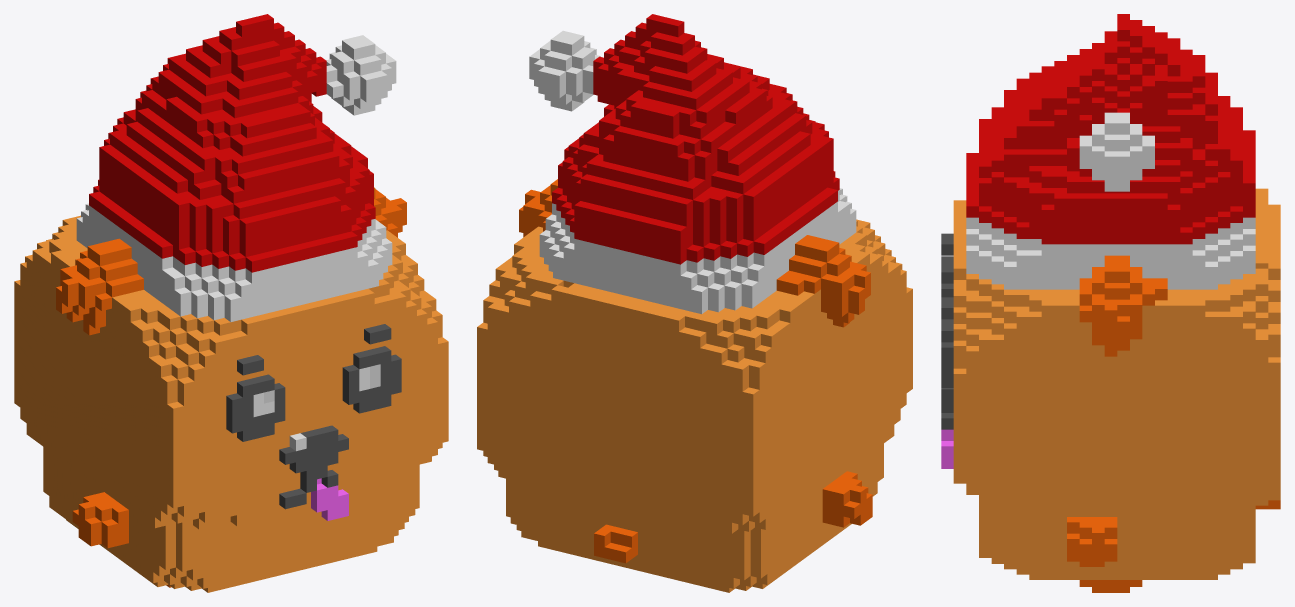
The model's file is dog.gltf.
The picture shows the model from 3 angles, left to right: view 1: azimuth 30°, elevation 25°; view 2: azimuth 150°, elevation 25°; view 3: azimuth 270°, elevation 25°; orthographic projection. The views are drawn at different scales.
Parts seen in each view (by area): view 1: Node; view 2: Node; view 3: Node.
Boxes of the visible parts, bbox=[...] form: Node: bbox=[14, 14, 448, 592]; Node: bbox=[477, 14, 912, 592]; Node: bbox=[941, 14, 1280, 592].
Size of the model in its own units: 3.2 by 4.8 by 2.7.
Materials: 1 (1 with a texture image).
